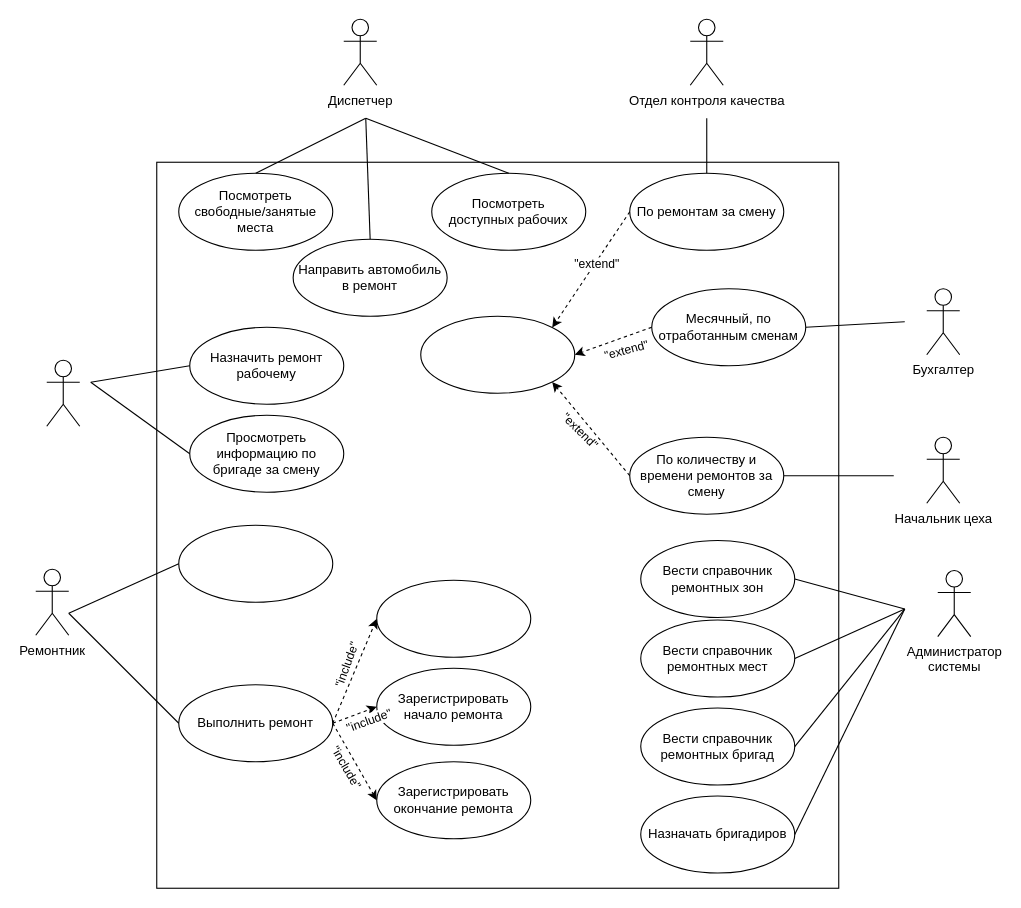
The diagram is 1021 pixels wide and 908 high, and some of its shapes have lost their labels. The centre of each missing label's shape, as x and y in pixels:
"Бригадир" goes at point (63, 392).
"Зарегистрировать дефект" goes at point (453, 618).
"Зарегистрироваться в системе" goes at point (255, 563).
"Получить отчет" goes at point (497, 354).
